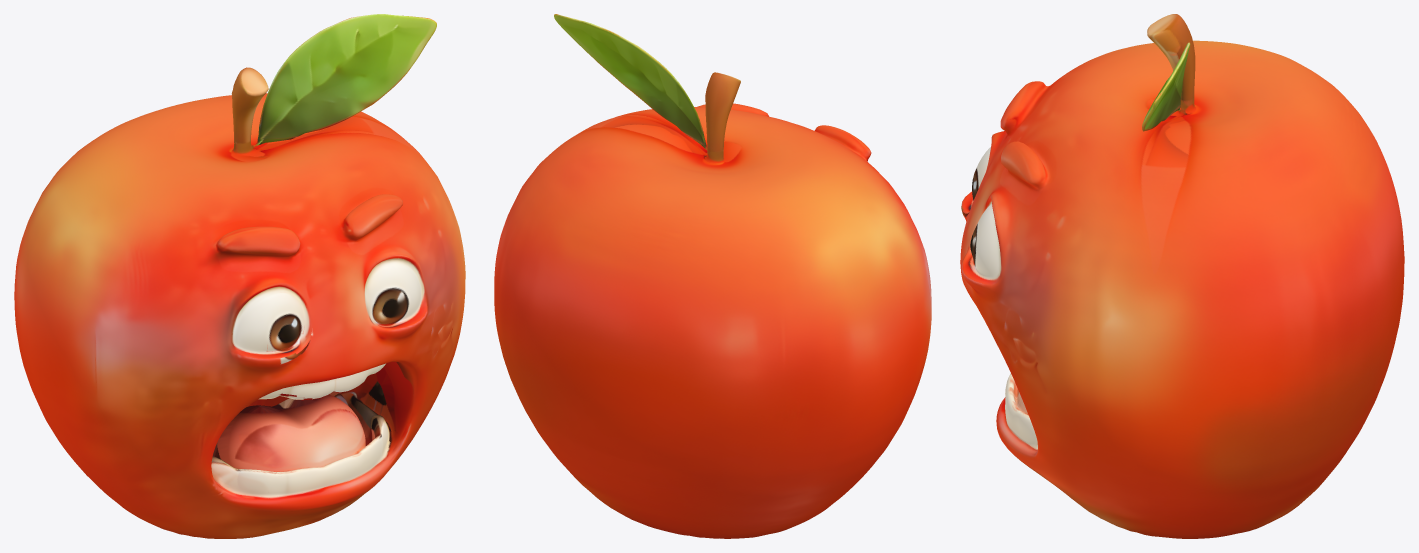
File: apple.glb
The picture shows the model from 3 angles, left to right: view 1: azimuth 30°, elevation 25°; view 2: azimuth 150°, elevation 25°; view 3: azimuth 270°, elevation 25°; orthographic projection. The views are drawn at different scales.
Visible parts, largest first — view 1: model; view 2: model; view 3: model.
Boxes of the visible parts, box(x1,y1,x2,y2) form: model: box(14, 14, 465, 538); model: box(494, 14, 931, 538); model: box(960, 14, 1404, 538).
Size of the model in its own units: 1.71 by 1.9 by 1.52.
Materials: 1 (1 with a texture image).
